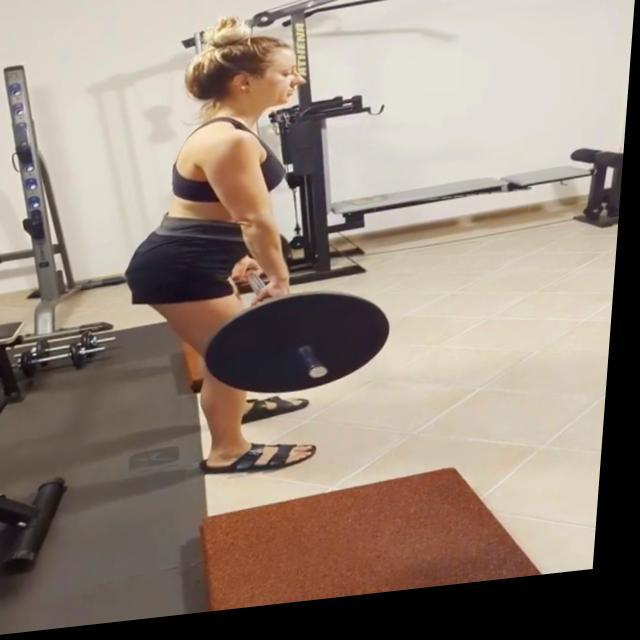barbell: (205, 290, 401, 411)
